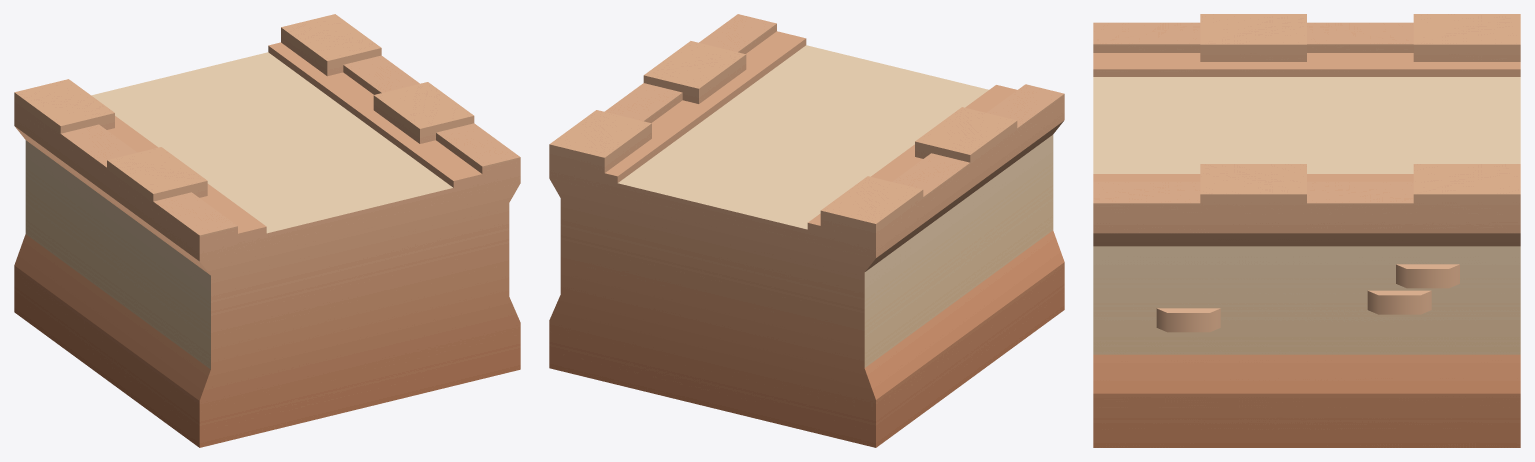
File: wall_block.glb
The picture shows the model from 3 angles, left to right: view 1: azimuth 30°, elevation 25°; view 2: azimuth 150°, elevation 25°; view 3: azimuth 270°, elevation 25°; orthographic projection. The views are drawn at different scales.
Parts seen in each view (by area): view 1: wall_block; view 2: wall_block; view 3: wall_block.
Part boxes in pixels (<box>): wall_block: <box>14,14,520,447</box>; wall_block: <box>549,14,1064,447</box>; wall_block: <box>1093,14,1520,447</box>.
Bounding box in the file's own units: 1 × 0.655 × 1.
1 material, 1 textured.
